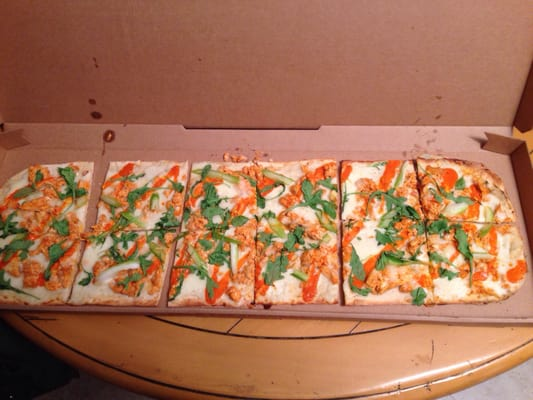sandwich: (95, 153, 525, 310), (22, 156, 352, 311), (340, 155, 530, 307), (71, 160, 189, 308), (0, 162, 93, 310)
